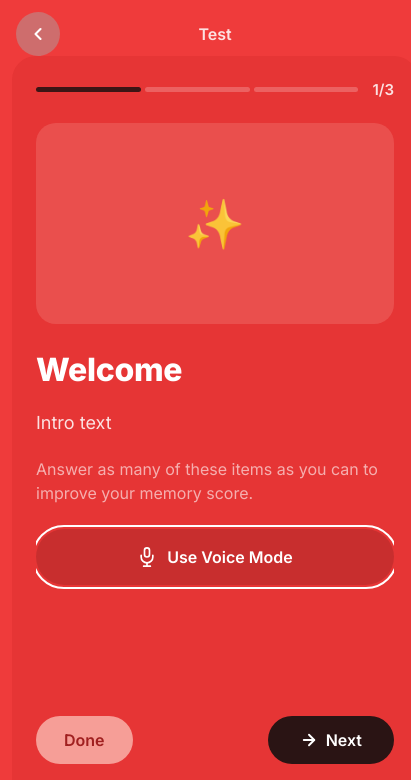
Test: FlowEngine › advances to next screen on Next click
Check: the heading "Welcome" is shown, box [36,350,182,389]
Click the button "Next": (331, 740) [268,716,394,764]
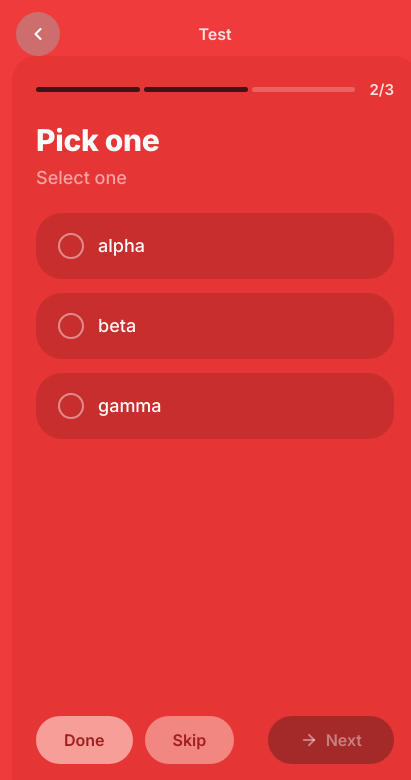
Check: the heading "Pick one" is shown, box [36,123,160,158]
